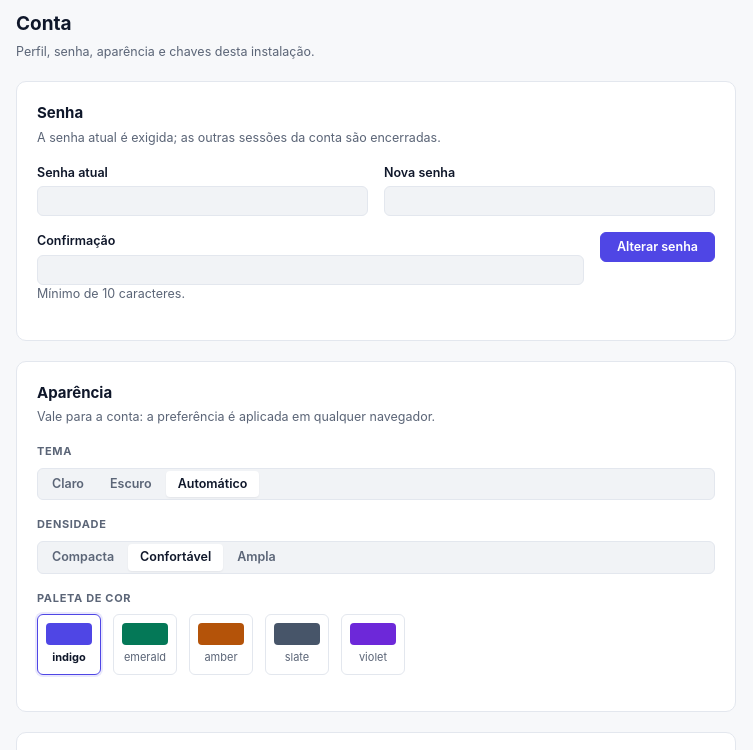
it: AccountPage › valida a troca de senha antes de enviar
Type "senha-antiga" into the password field with test id "account-password-current" at (202, 201), box [37,186,368,216]
Type "curta" into the password field with test id "account-password-new" at (550, 201), box [384,186,715,216]
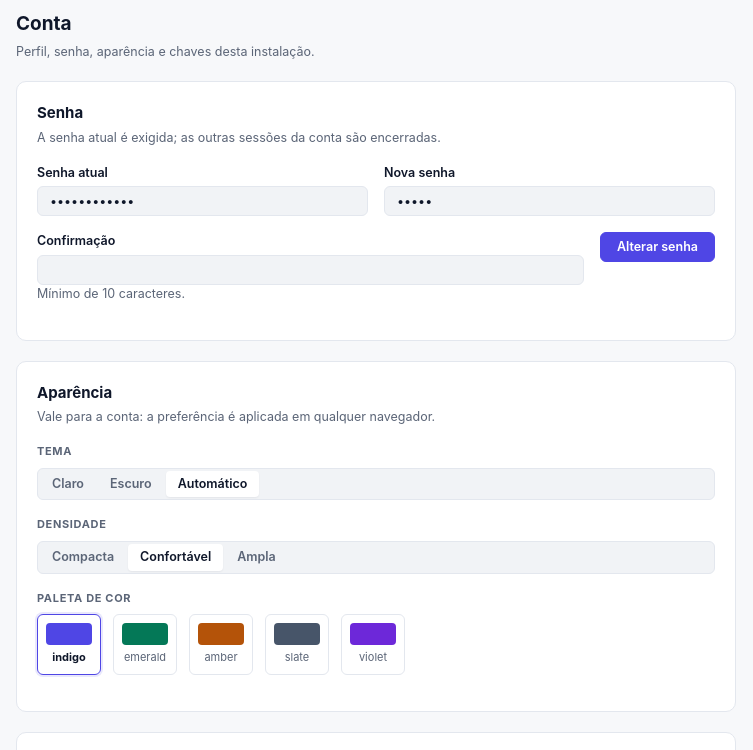
Type "curta" into the password field with test id "account-password-confirm" at (310, 270), box [37,255,584,285]
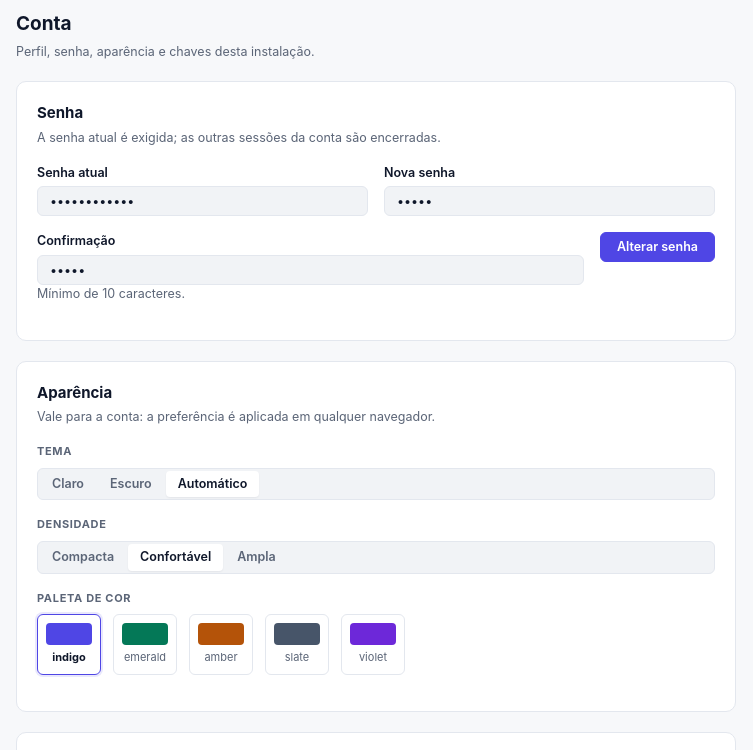
Submit the form with test id "account-password-submit", box [37,164,715,285]
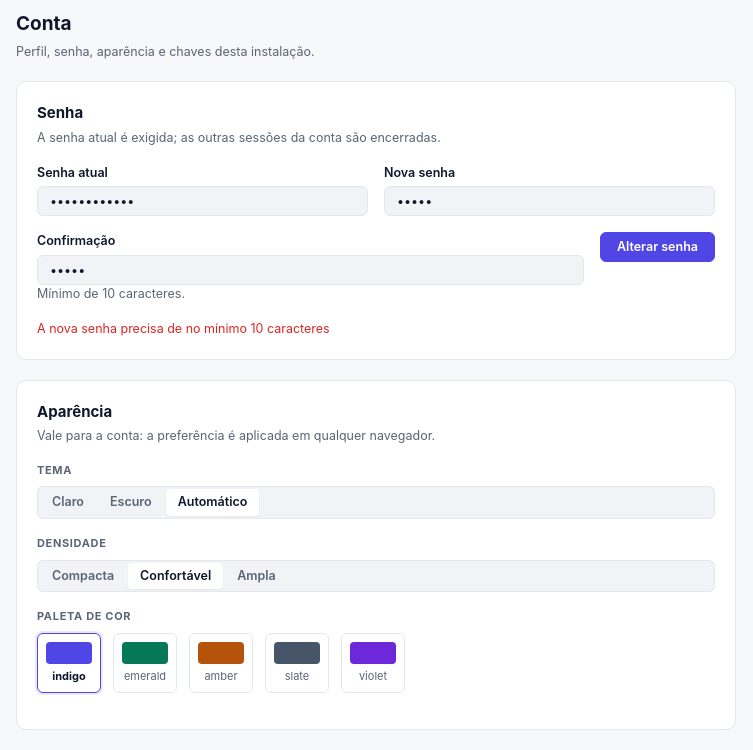
Expected: the message with test id "account-password-error" shows "no mínimo 10 caracteres", [37,321,330,336]
Type "senha-nova-bem-longa" into the password field with test id "account-password-new" at (550, 201), box [384,186,715,216]
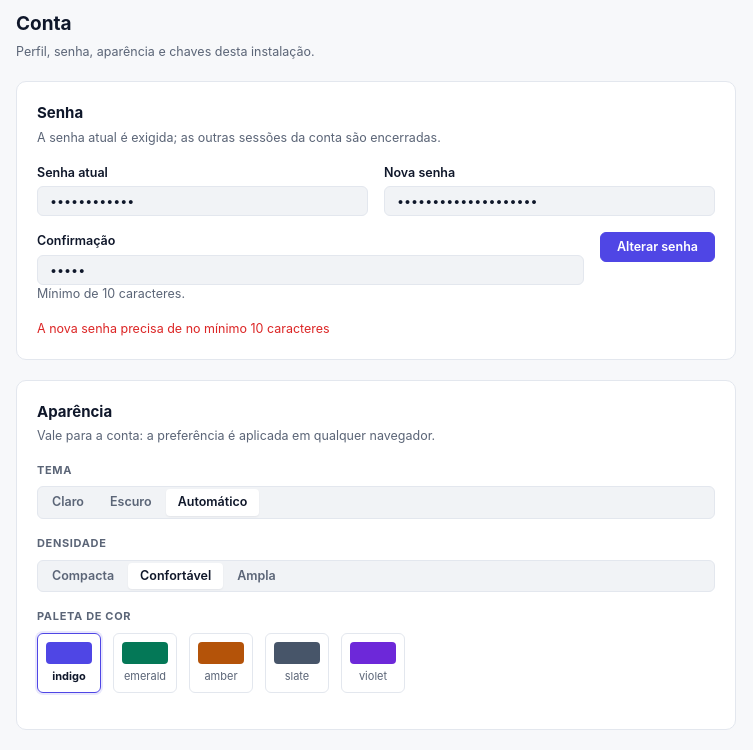
Type "outra-senha-diferente" into the password field with test id "account-password-confirm" at (310, 270), box [37,255,584,285]
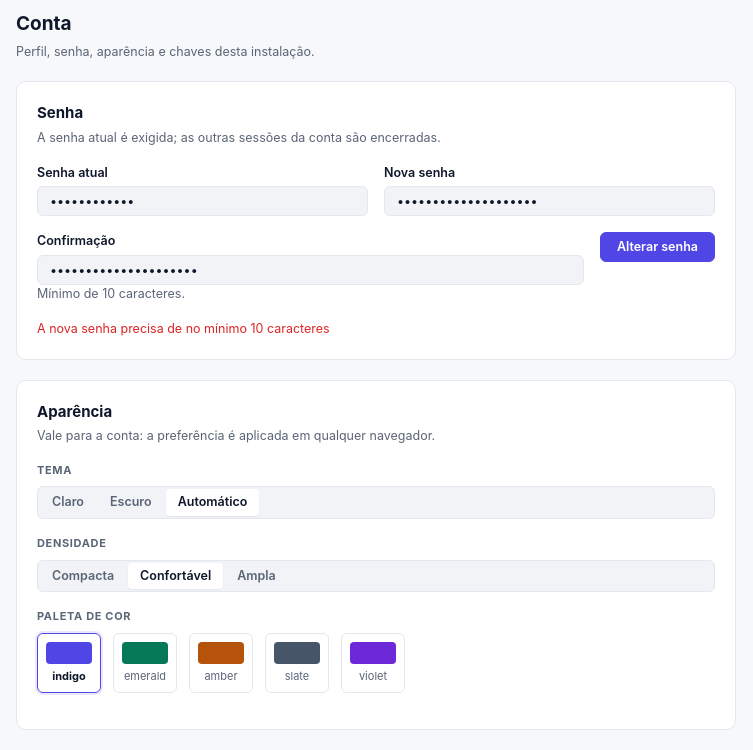
Submit the form with test id "account-password-submit", box [37,164,715,285]
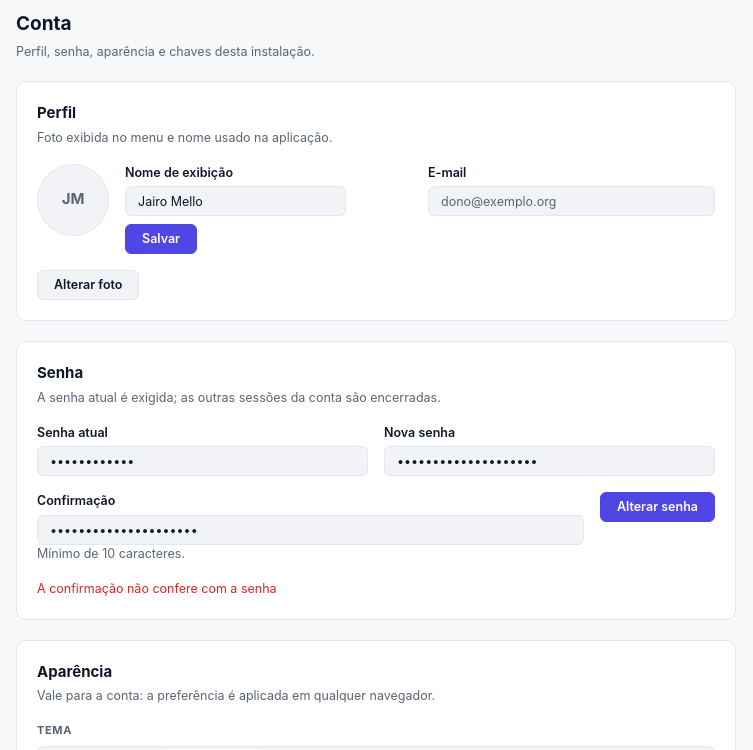
Expected: the message with test id "account-password-error" shows "não confere", [37,581,277,596]
